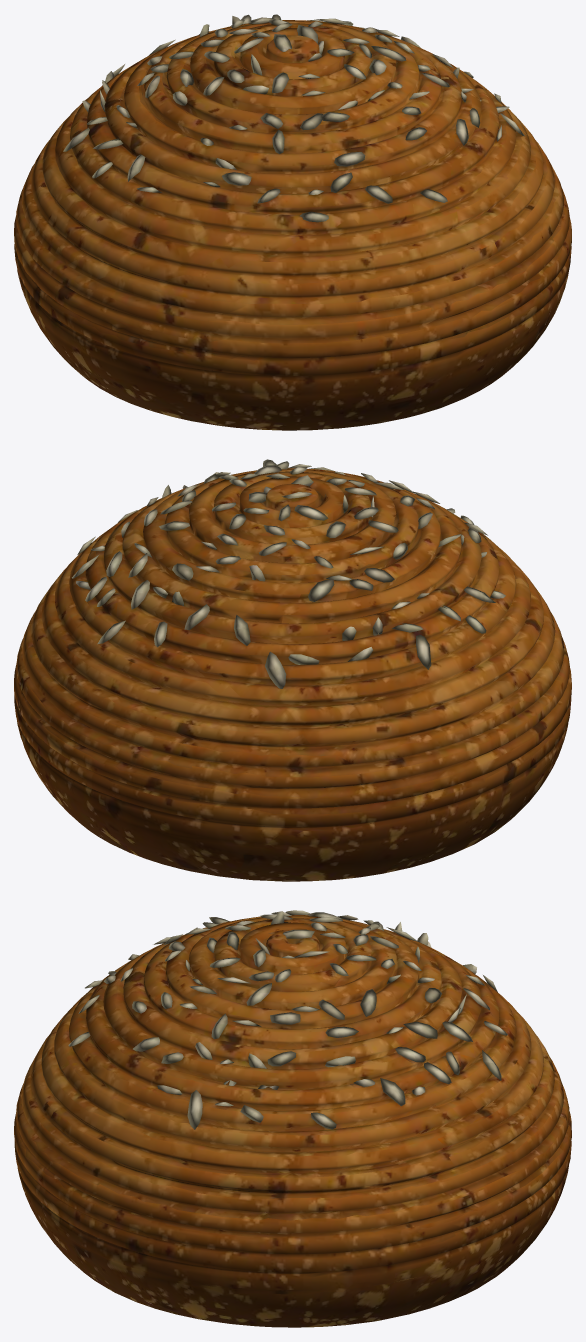
The model's file is wholewheat--sunflowerseed-seed.glb.
3 views of the same model, one above another, from view 1: azimuth 30°, elevation 25°; view 2: azimuth 150°, elevation 25°; view 3: azimuth 270°, elevation 25° (orthographic).
Visible parts, largest first — view 1: wholewheat_sunflowerseed-seed; view 2: wholewheat_sunflowerseed-seed; view 3: wholewheat_sunflowerseed-seed.
Boxes of the visible parts, x1,y1,x2,y2 form: wholewheat_sunflowerseed-seed: [14, 14, 571, 430]; wholewheat_sunflowerseed-seed: [14, 459, 571, 881]; wholewheat_sunflowerseed-seed: [14, 910, 571, 1327].
Bounding box in the file's own units: 0.9999 × 0.5801 × 0.998.
Materials: 1 (1 with a texture image).
